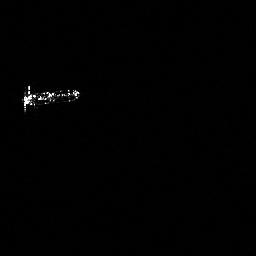ship: (16, 81, 82, 114)
